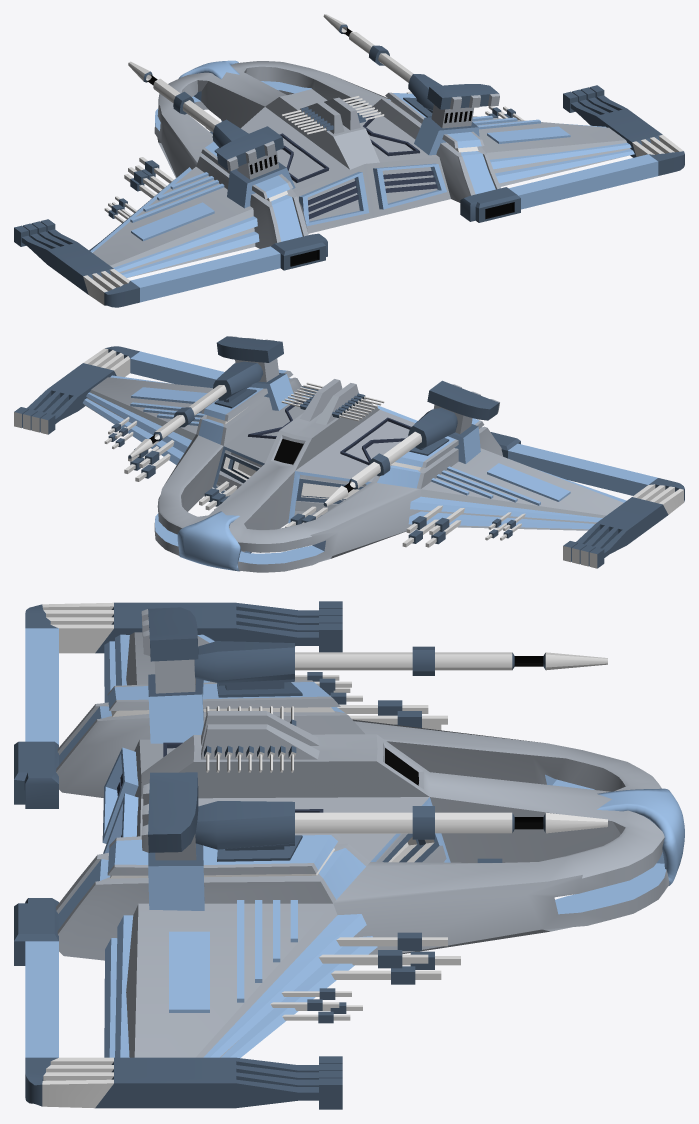
Rendered from spaceship_0.fbx.
3 renders of one model, top to bottom at view 1: azimuth 30°, elevation 25°; view 2: azimuth 150°, elevation 25°; view 3: azimuth 270°, elevation 25°, orthographic. The views are drawn at different scales.
Parts seen in each view (by area): view 1: Base, _Weapon_2, _Weapon_1, Basic_Detail, Wingdetail, Antennas, Nosedetail; view 2: Base, _Weapon_2, _Weapon_1, Wingdetail, Basic_Detail, Nosedetail, Antennas; view 3: Base, _Weapon_2, _Weapon_1, Wingdetail, Basic_Detail, Nosedetail, Antennas.
Boxes of the visible parts, x1,y1,x2,y2 form: Base: [93, 61, 630, 277]; _Weapon_2: [14, 85, 684, 307]; _Weapon_1: [128, 14, 499, 208]; Basic_Detail: [130, 115, 570, 241]; Wingdetail: [89, 91, 634, 277]; Antennas: [281, 95, 384, 134]; Nosedetail: [178, 60, 239, 79]; Base: [84, 369, 623, 572]; _Weapon_2: [14, 346, 684, 568]; _Weapon_1: [128, 336, 499, 506]; Wingdetail: [83, 375, 626, 547]; Basic_Detail: [130, 387, 570, 553]; Nosedetail: [177, 511, 240, 571]; Antennas: [281, 382, 384, 421]; Base: [56, 632, 669, 1057]; _Weapon_2: [14, 601, 342, 1109]; _Weapon_1: [141, 607, 607, 910]; Wingdetail: [104, 634, 502, 1057]; Basic_Detail: [102, 680, 323, 1012]; Nosedetail: [597, 788, 684, 885]; Antennas: [204, 706, 296, 772].
Bounding box in the file's own units: 6.39 × 1.1 × 3.75.
